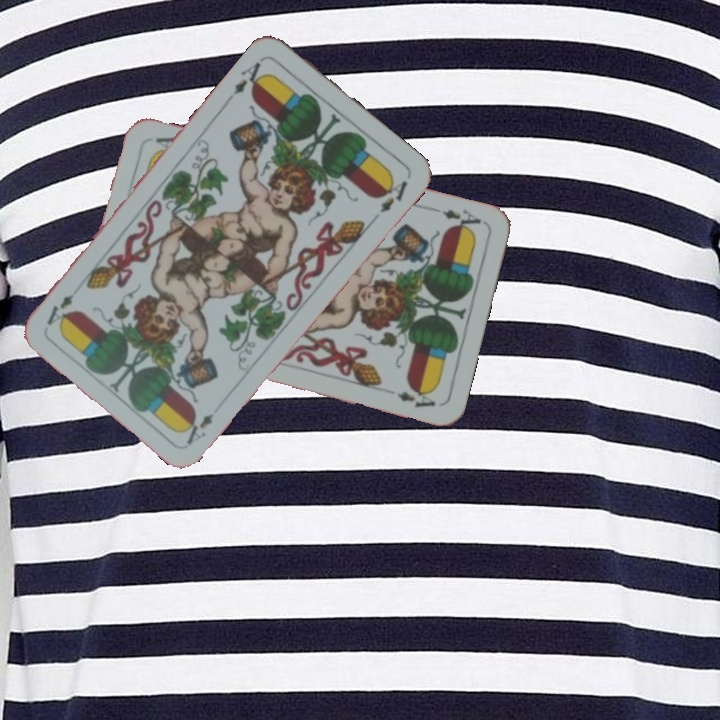EA: (223, 54, 271, 103), (178, 409, 217, 447), (437, 204, 484, 235)
